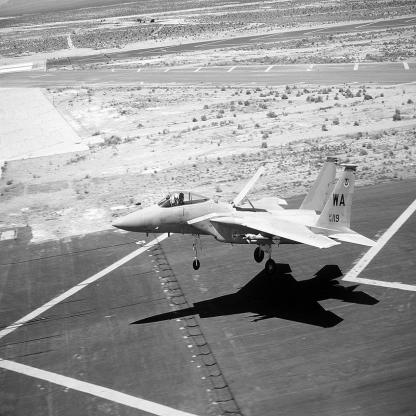F15: (112, 157, 380, 277)
